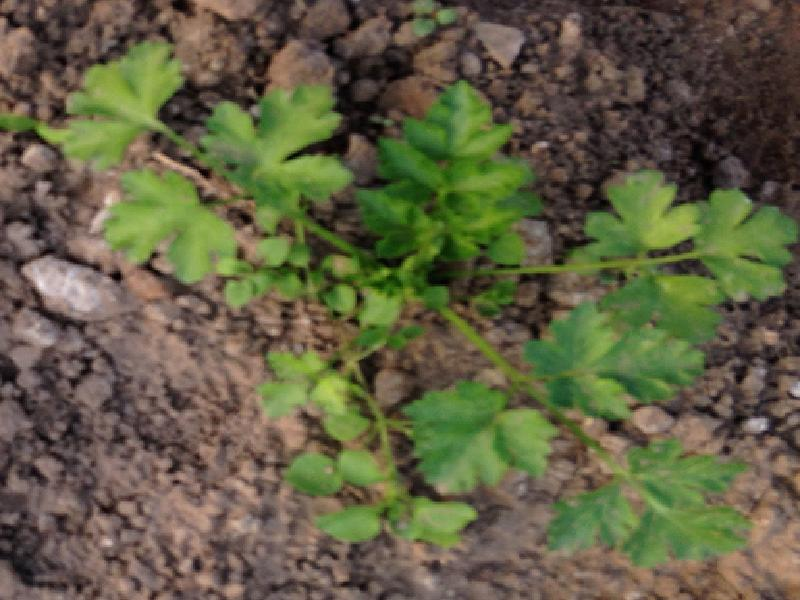radish: (54, 63, 669, 541)
